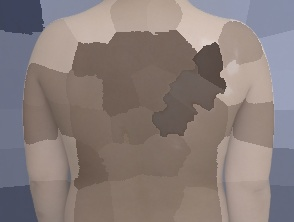vitiligo: (88, 1, 265, 192)
